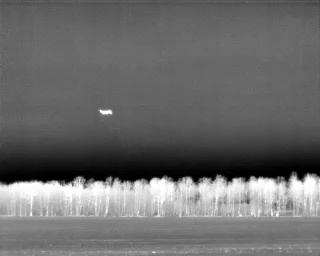DRONE: (95, 104, 117, 120)
